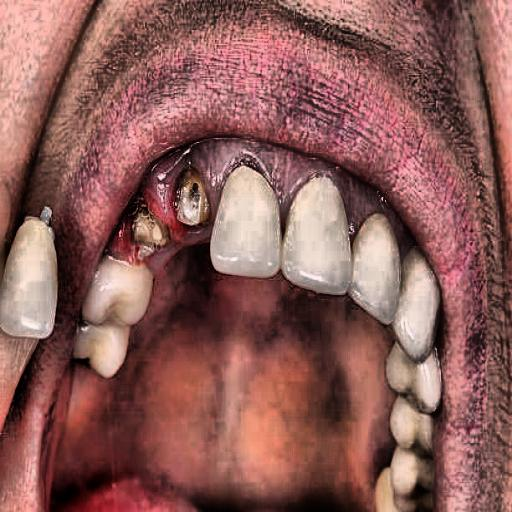Gingivitis: (129, 114, 364, 219)
